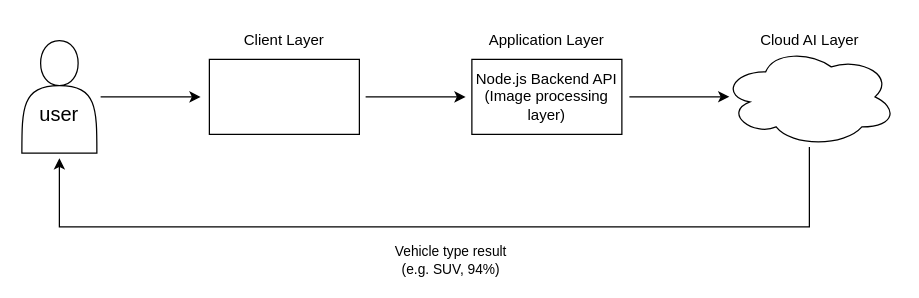
Image size: 919x298. Some labels were removed from this diagram. Each missing label, with the centre of its shape:
"Azure AI Vision (Image recognition service)" belongs at pixel 809 96.
"React Frontend (Image Upload UI)" belongs at pixel 283 96.
